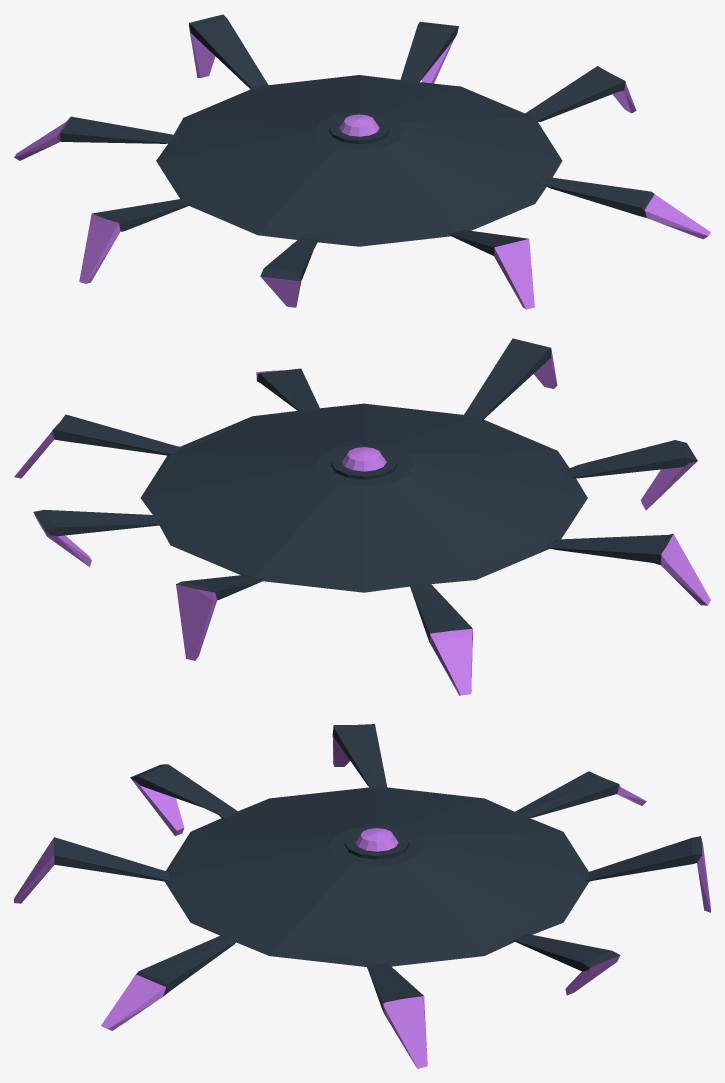
Rendered from Spider_Walk_000019.obj.
The picture shows the model from 3 angles, top to bottom: view 1: azimuth 30°, elevation 25°; view 2: azimuth 150°, elevation 25°; view 3: azimuth 270°, elevation 25°; orthographic projection. The views are drawn at different scales.
Parts seen in each view (by area): view 1: Circle_Circle.001; view 2: Circle_Circle.001; view 3: Circle_Circle.001.
Boxes of the visible parts, x1,y1,x2,y2 form: Circle_Circle.001: (14,14,710,309); Circle_Circle.001: (14,338,710,695); Circle_Circle.001: (14,724,710,1068).
Size of the model in its own units: 3.37 by 0.4406 by 3.24.
